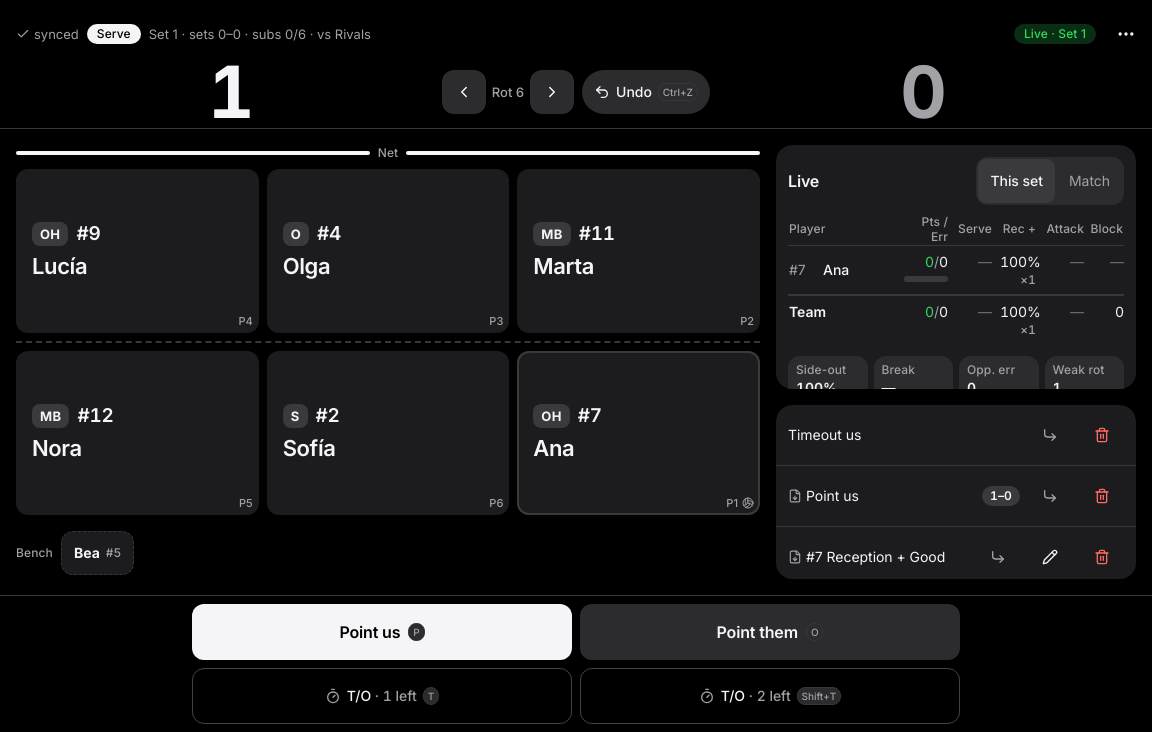
Test: ScoutPage › undo on a reopened import removes taps, then stops at the import
The image size is (1152, 732).
Click the button "Undo Ctrl+Z" at point(646, 92), box [582,70,710,114]
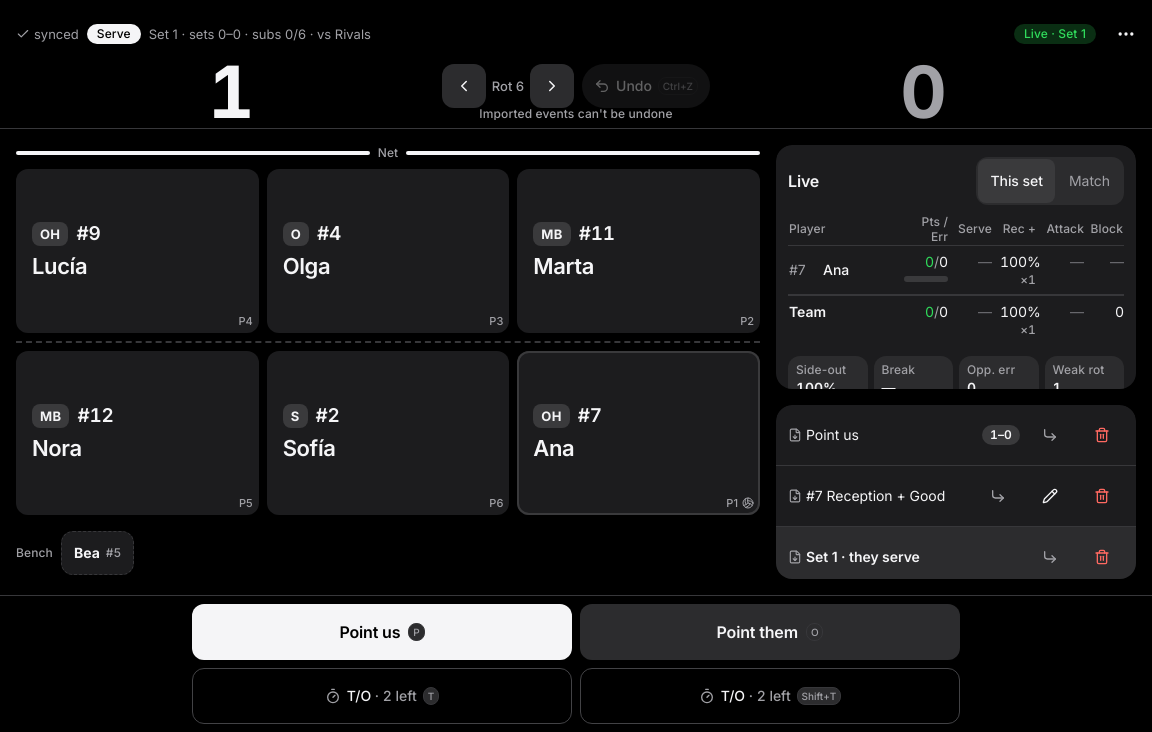
Expected: the button "Undo Ctrl+Z" is disabled, [582,64,710,108]
